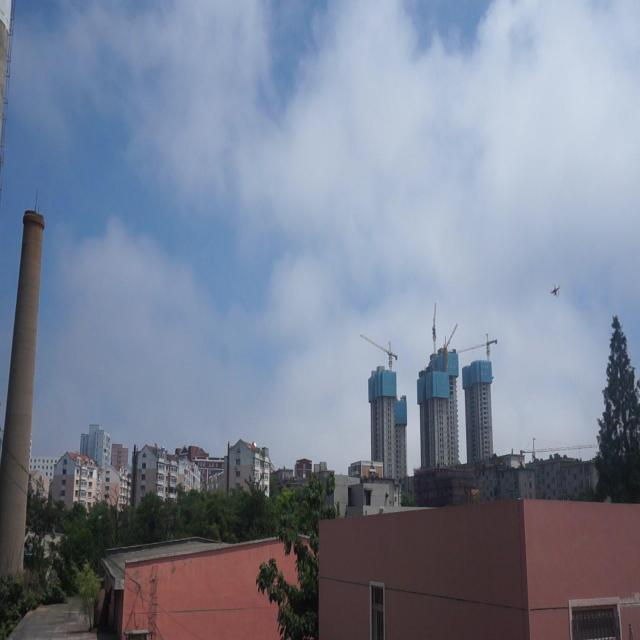UAV: (547, 284, 563, 298)
